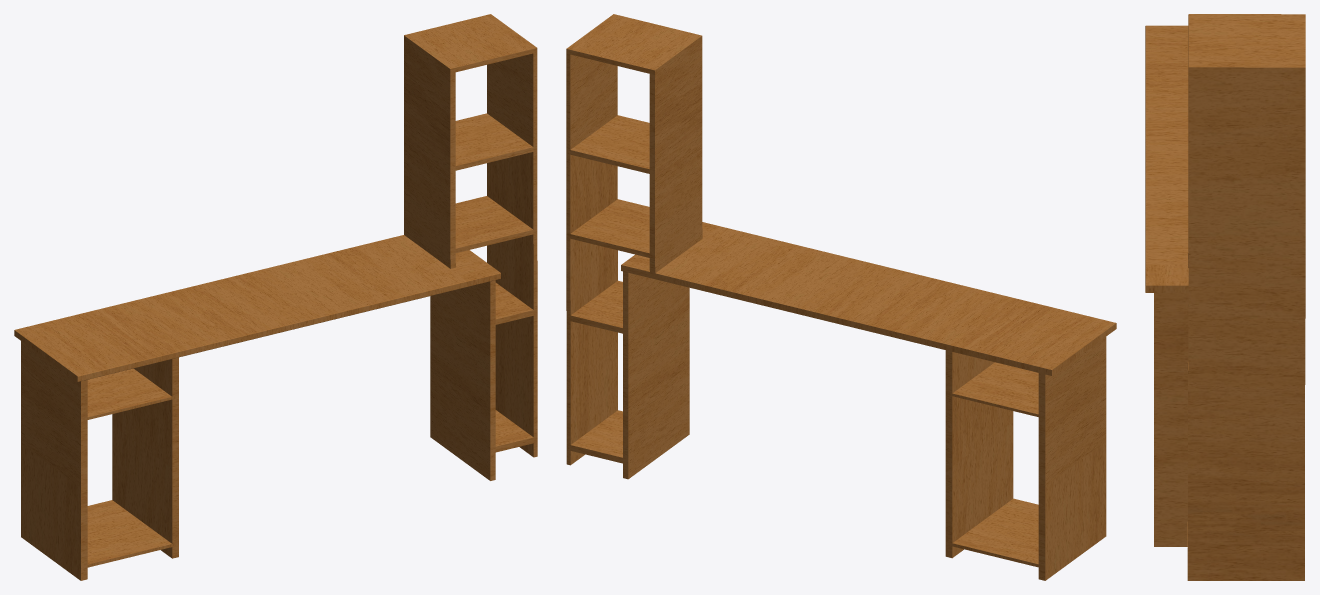
The model's file is Desk.fbx.
The picture shows the model from 3 angles, left to right: view 1: azimuth 30°, elevation 25°; view 2: azimuth 150°, elevation 25°; view 3: azimuth 270°, elevation 25°; orthographic projection. The views are drawn at different scales.
Parts seen in each view (by area): view 1: Shelf; view 2: Shelf; view 3: Shelf.
Boxes of the visible parts, x1,y1,x2,y2 form: Shelf: [14, 14, 537, 580]; Shelf: [566, 14, 1116, 580]; Shelf: [1145, 14, 1305, 580].
Size of the model in its own units: 182 by 149 by 42.2.
Materials: 1 (1 with a texture image).
